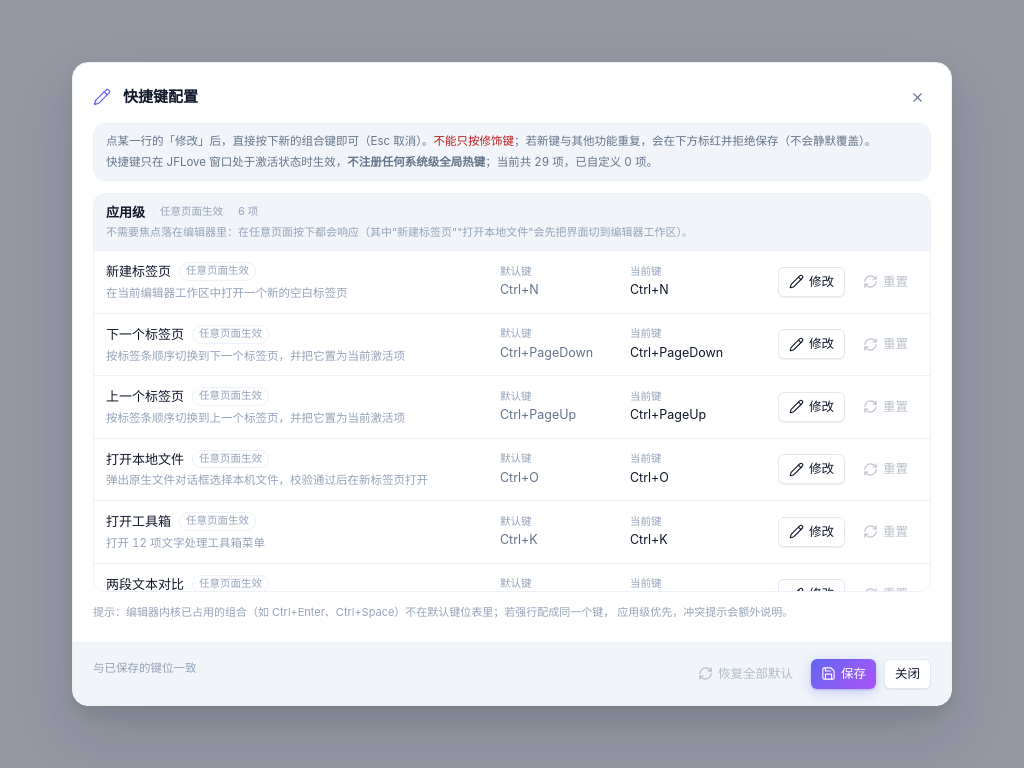
AC-97② 设置页两组分组渲染 › 点「修改」进入按键态（既有交互不回归）
Click the button "修改" in the row of "在当前编辑器工作区中打开一个新的空白标签页" at (812,282), box [778, 267, 845, 297]
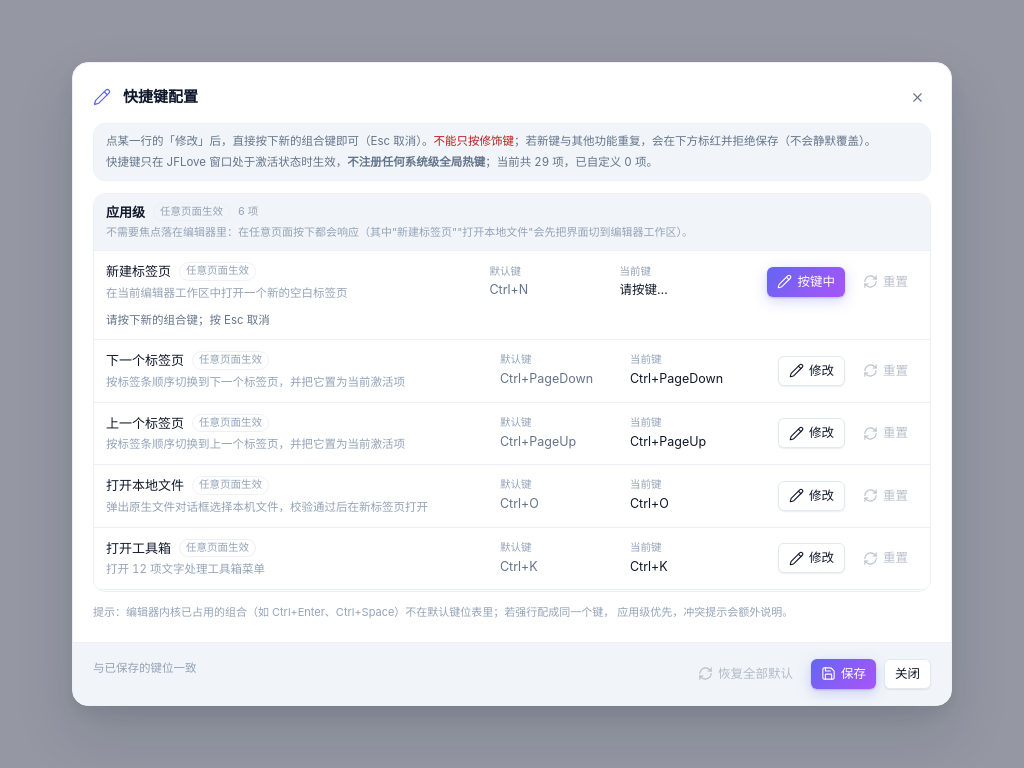
Result: the button "按键中" is shown at [768, 267, 845, 297]
